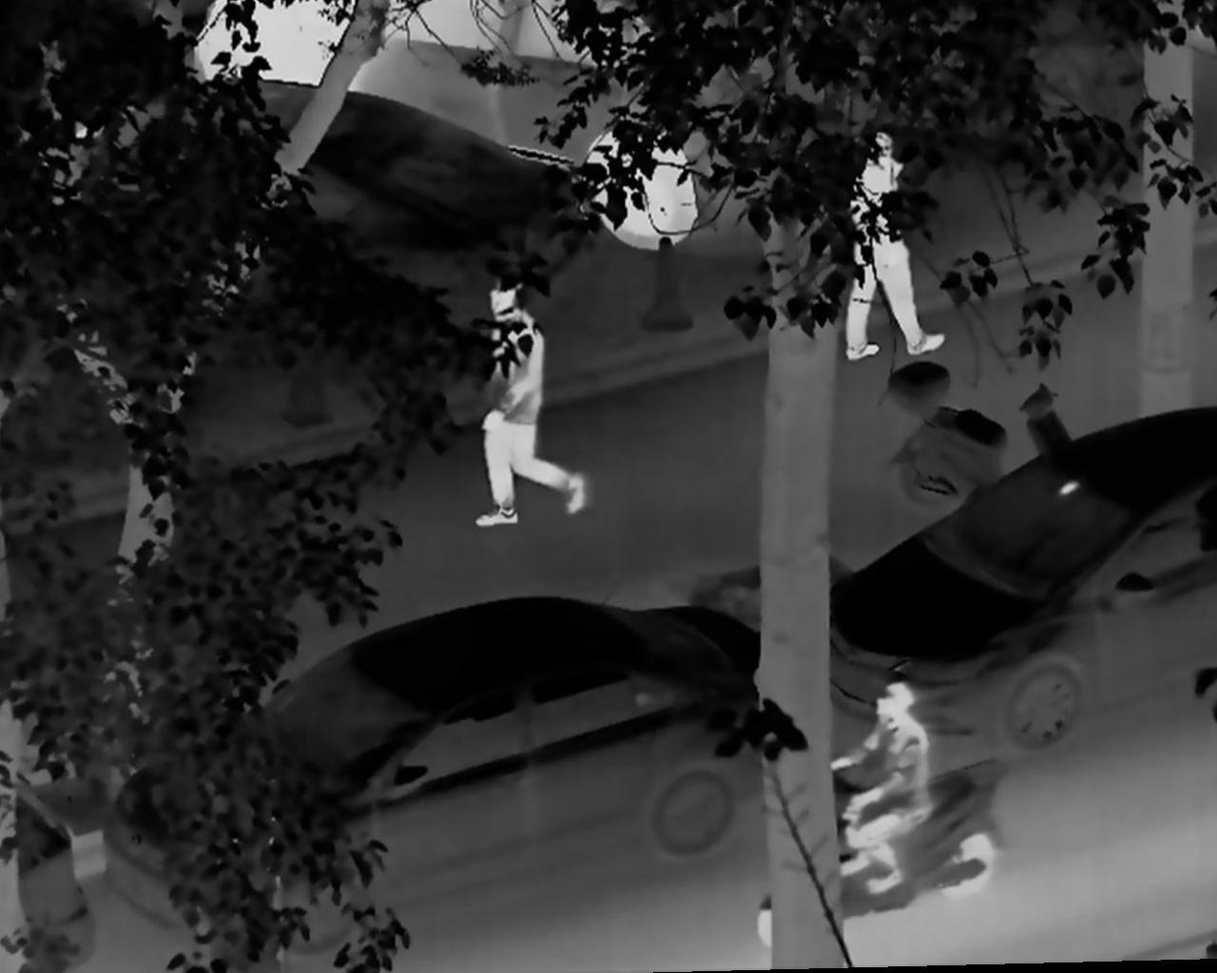person: (473, 274, 587, 532), (836, 125, 946, 369), (827, 676, 931, 896)
